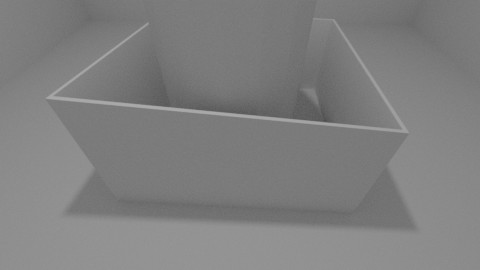cheminee: (142, 1, 317, 195)
eaf: (53, 96, 403, 210)
